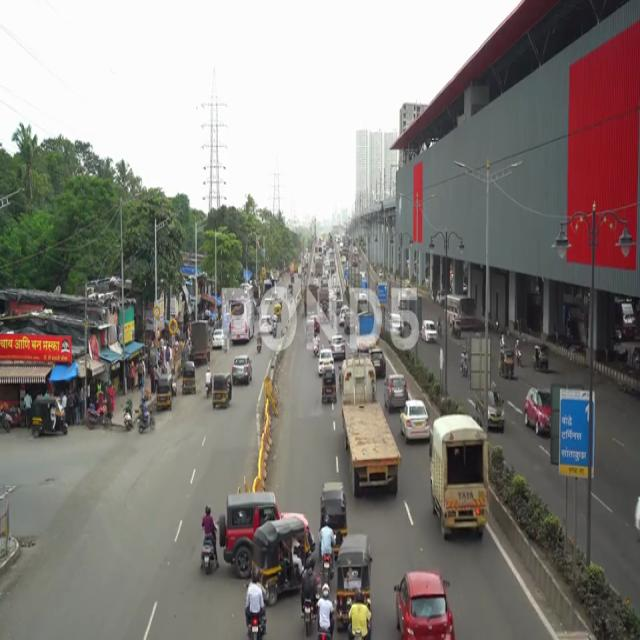car: (393, 575, 458, 640), (399, 404, 429, 441), (487, 390, 507, 434), (232, 357, 254, 386)
motorbike: (198, 502, 218, 580), (244, 571, 266, 640), (344, 593, 375, 640), (318, 512, 332, 586), (317, 586, 334, 640)
rikshaw: (213, 372, 231, 414), (532, 342, 550, 374), (500, 350, 515, 383)
truck: (339, 351, 406, 503), (427, 407, 488, 544)
